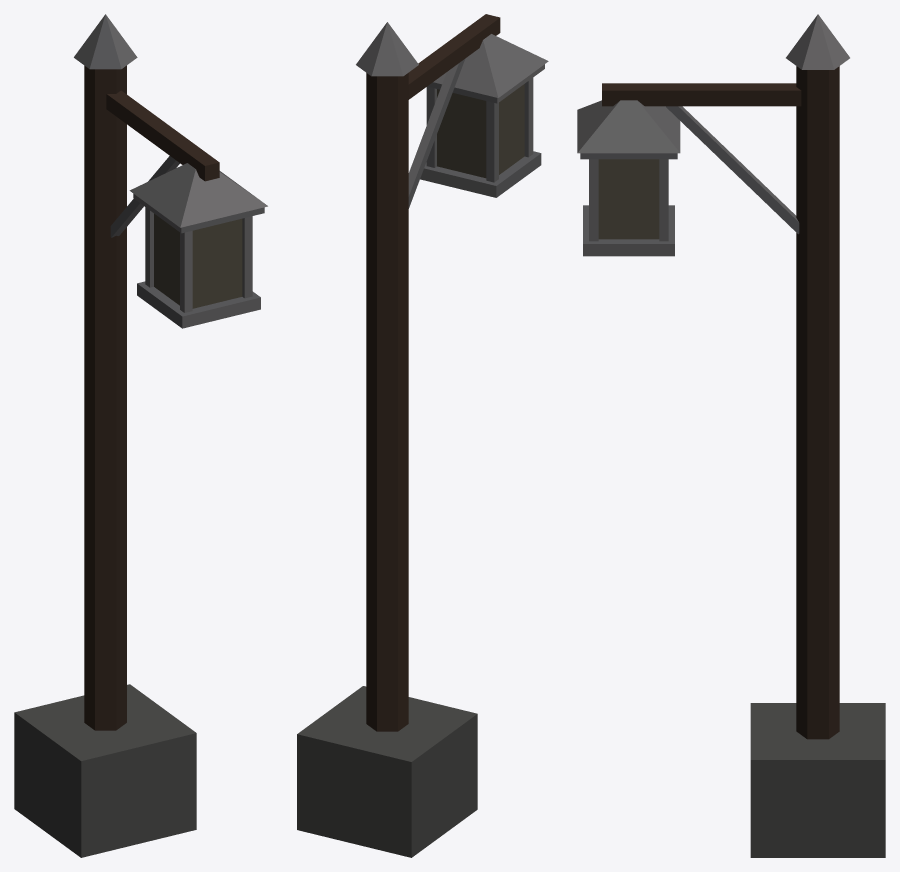
The model's file is walk_prop_lamp.glb.
3 renders of one model, left to right at view 1: azimuth 30°, elevation 25°; view 2: azimuth 150°, elevation 25°; view 3: azimuth 270°, elevation 25°, orthographic. The views are drawn at different scales.
Parts seen in each view (by area): view 1: walk_prop_lamp; view 2: walk_prop_lamp; view 3: walk_prop_lamp.
Boxes of the visible parts, box(x1,y1,x2,y2) form: walk_prop_lamp: box(14, 14, 267, 857); walk_prop_lamp: box(297, 14, 548, 857); walk_prop_lamp: box(577, 14, 885, 857).
Bounding box in the file's own units: 0.5 × 3.33 × 1.14.
Materials: 2 (2 with a texture image).
